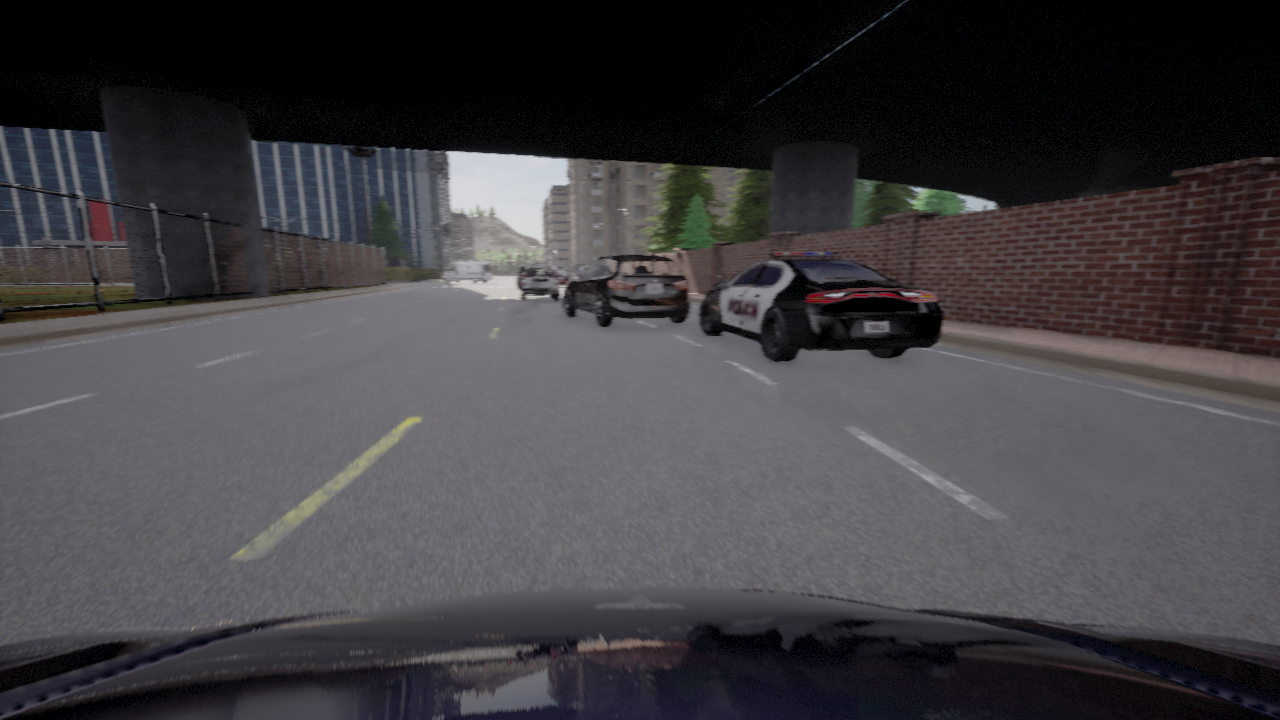cyclist: (0, 588, 1279, 719), (700, 252, 943, 362), (563, 254, 689, 326), (519, 265, 559, 300), (442, 261, 492, 283), (554, 270, 572, 284), (517, 265, 527, 288)
